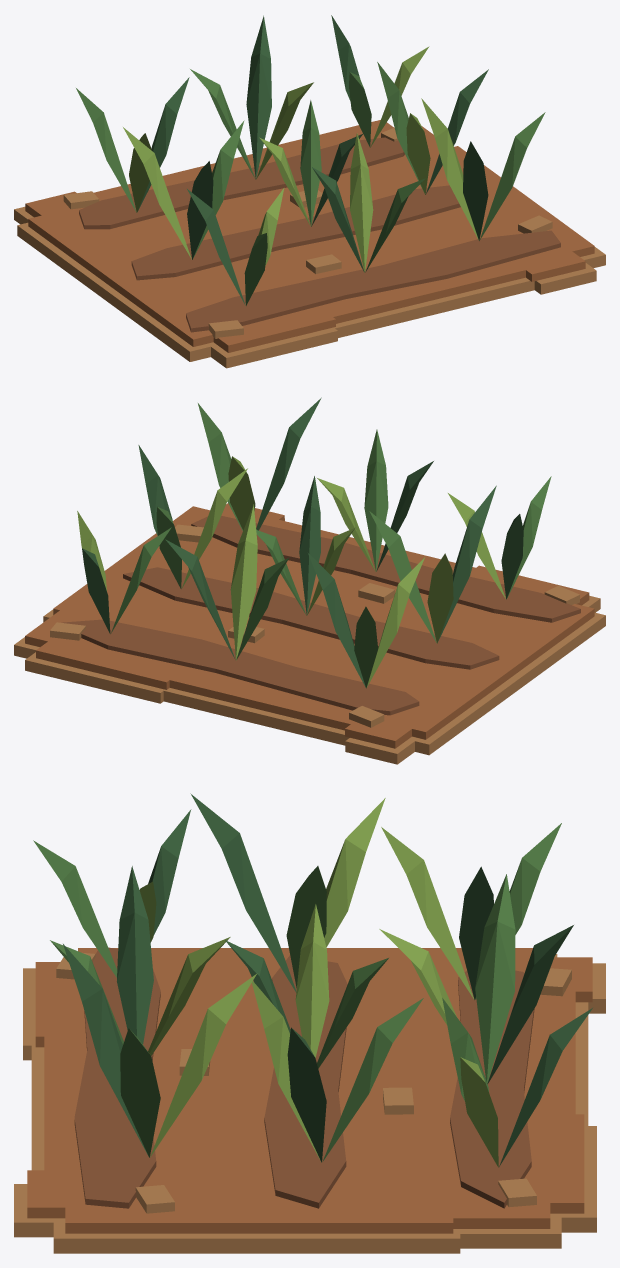
The model's file is plot-weeds.glb.
3 views of the same model, one above another, from view 1: azimuth 30°, elevation 25°; view 2: azimuth 150°, elevation 25°; view 3: azimuth 270°, elevation 25° (orthographic). The views are drawn at different scales.
Visible parts, largest first — view 1: Blade; view 2: Blade; view 3: Blade.
Part boxes in pixels (x1,y1,x2,y2): Blade: [14, 15, 605, 368]; Blade: [14, 397, 605, 764]; Blade: [14, 793, 605, 1253].
Bounding box in the file's own units: 1.77 × 0.6344 × 1.55.
